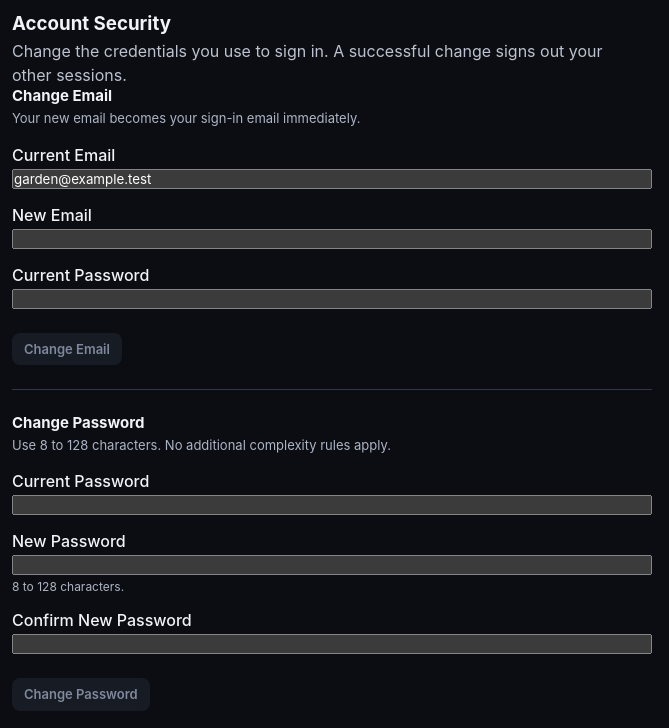
Scenario: Account Security settings › does not couple a successful password change to the independent email draft
In the field labelled "New Email": (332, 238) [12,228,652,248], type "draft@example.test"
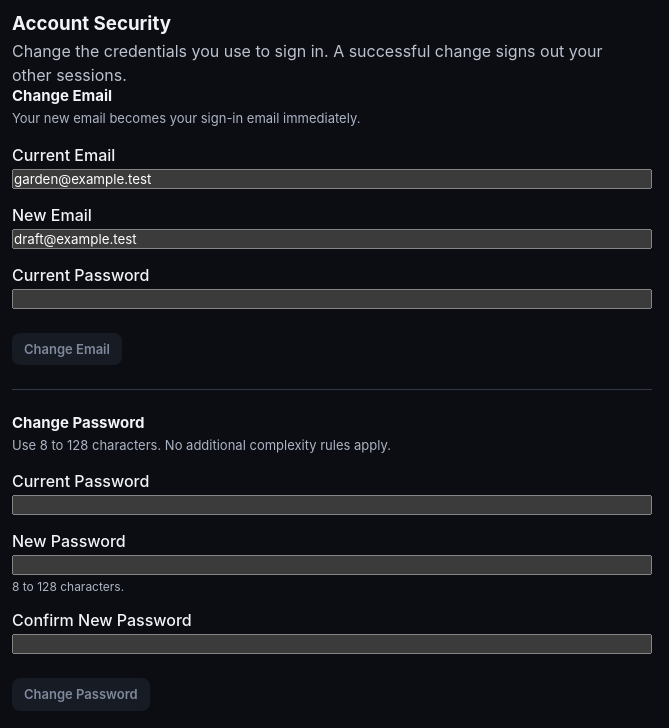
In the password field labelled "Current Password" below "Current Email": (332, 298) [12,288,652,308], type "email-form-password"
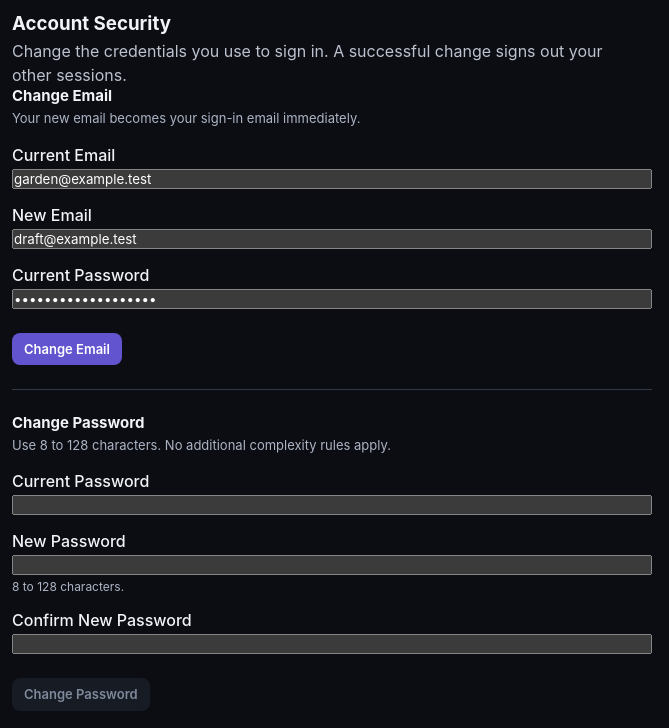
In the 2nd password field labelled "Current Password": (332, 505) [12,495,652,515], type "current-password"
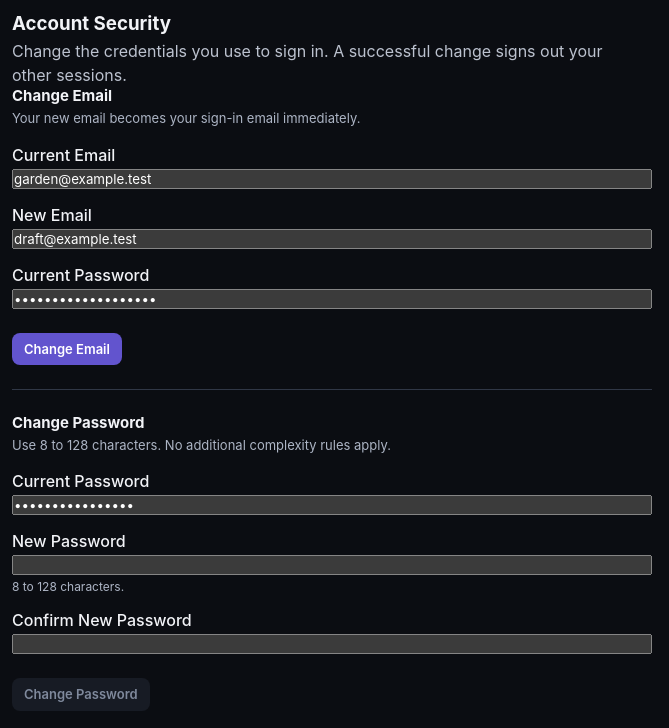
In the password field labelled "New Password": (332, 565) [12,555,652,575], type "new-valid-password"
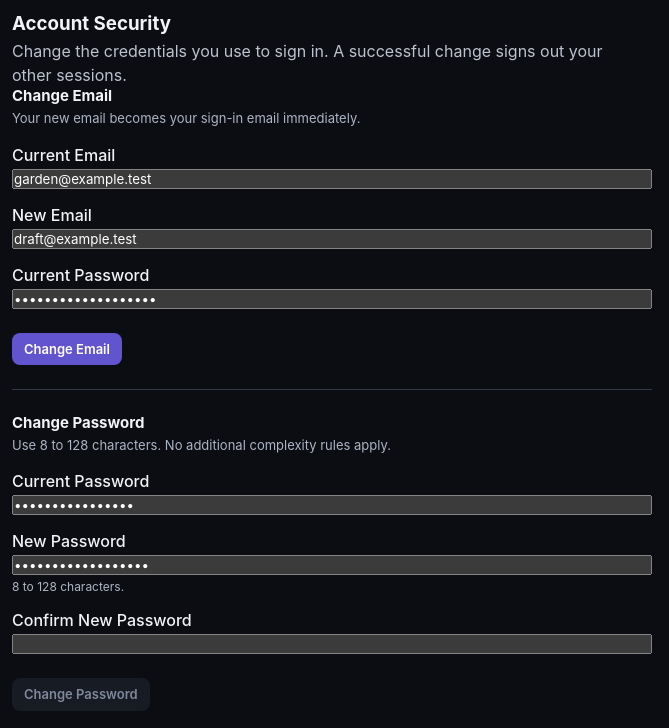
In the password field labelled "Confirm New Password": (332, 644) [12,634,652,654], type "new-valid-password"
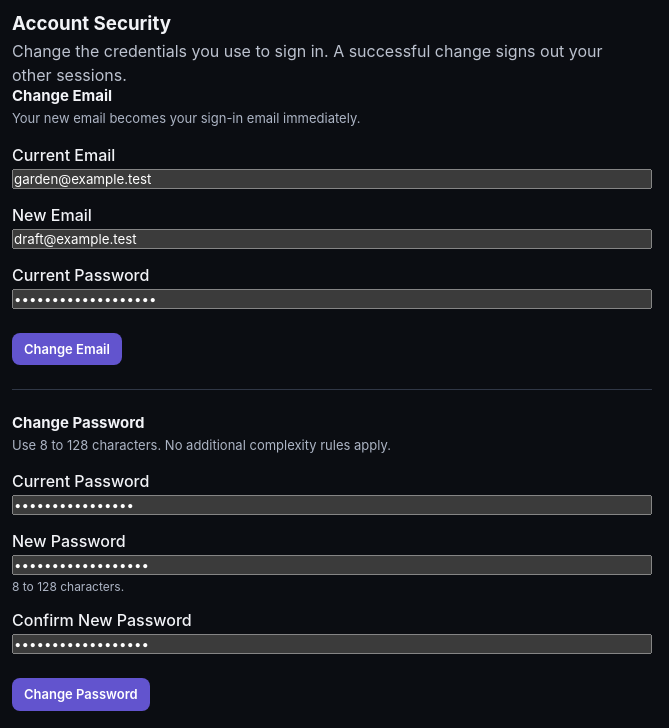
Click the button "Change Password": (81, 694) [12,678,150,711]
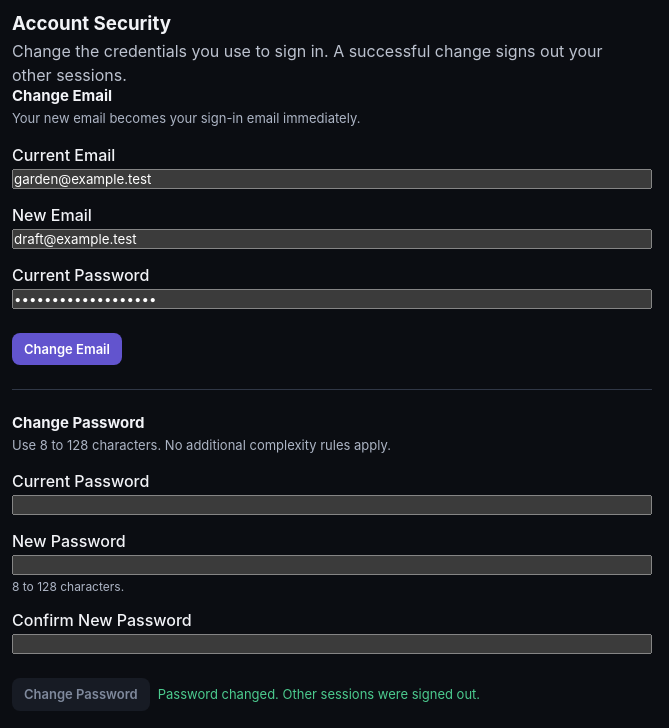
Expected: the text "Password changed. Other sessions were signed out." is shown, [158,686,480,702]
